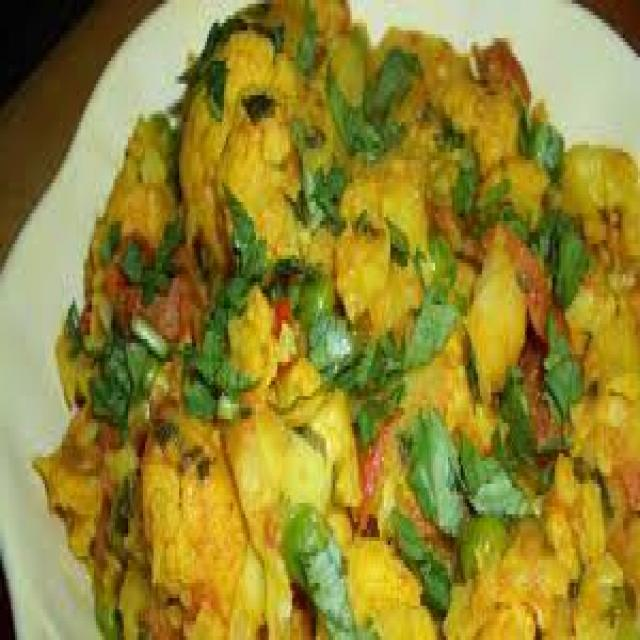Aloo Gobi: (148, 39, 529, 584)
